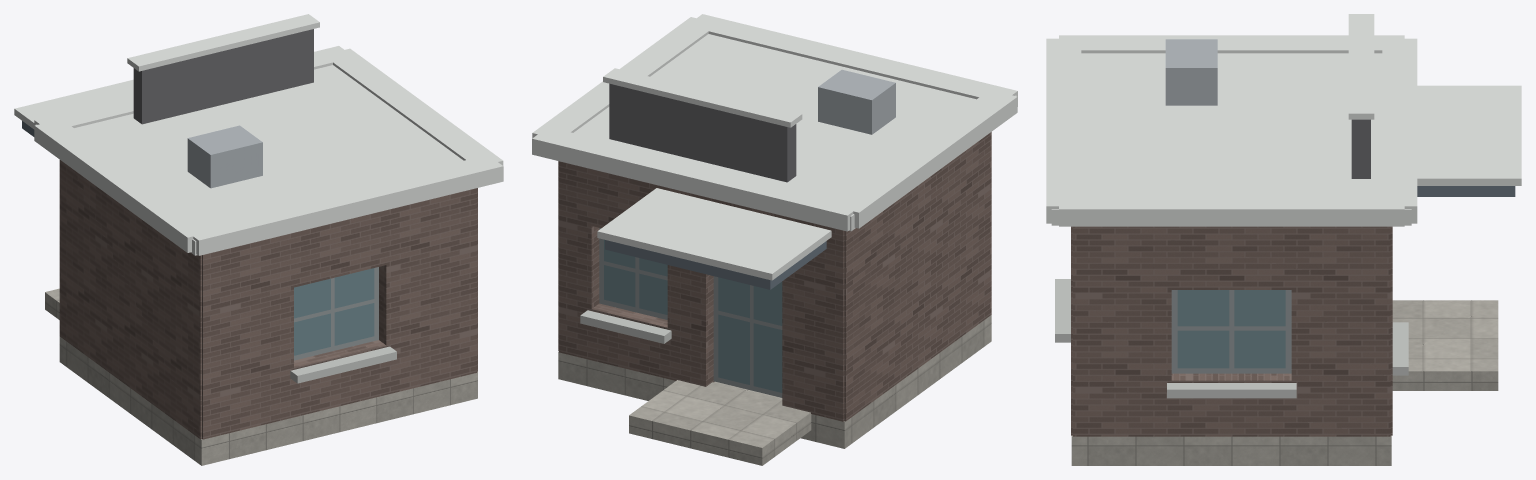
The picture shows the model from 3 angles, left to right: view 1: azimuth 30°, elevation 25°; view 2: azimuth 150°, elevation 25°; view 3: azimuth 270°, elevation 25°; orthographic projection. The views are drawn at different scales.
Visible parts, largest first — view 1: guard__guardbrick, guard__cap, guard__stone, guard__darkframe, guard__glass, guard__metalroof, guard__sill, guard__frame; view 2: guard__cap, guard__guardbrick, guard__darkframe, guard__threshold-front, guard__glass, guard__stone, guard__metalroof, guard__frame, guard__canopy, guard__sill; view 3: guard__cap, guard__guardbrick, guard__stone, guard__threshold-front, guard__glass, guard__sill, guard__metalroof, guard__frame, guard__darkframe, guard__canopy.
Part boxes in pixels (x1,y1,x2,y2): guard__guardbrick: [59, 160, 477, 439]; guard__cap: [14, 14, 503, 255]; guard__stone: [59, 336, 477, 465]; guard__darkframe: [133, 29, 313, 124]; guard__glass: [294, 268, 374, 355]; guard__metalroof: [187, 125, 262, 188]; guard__sill: [290, 346, 396, 383]; guard__frame: [294, 267, 378, 360]; guard__cap: [532, 14, 1017, 280]; guard__guardbrick: [558, 132, 991, 421]; guard__darkframe: [609, 83, 796, 182]; guard__threshold-front: [629, 380, 811, 465]; guard__glass: [604, 239, 782, 392]; guard__stone: [558, 315, 991, 448]; guard__metalroof: [818, 69, 895, 134]; guard__frame: [599, 228, 782, 397]; guard__canopy: [605, 240, 826, 289]; guard__sill: [580, 310, 671, 343]; guard__cap: [1046, 14, 1521, 226]; guard__guardbrick: [1071, 226, 1392, 436]; guard__stone: [1071, 435, 1391, 465]; guard__threshold-front: [1392, 300, 1498, 390]; guard__glass: [1177, 290, 1285, 368]; guard__sill: [1055, 279, 1408, 398]; guard__metalroof: [1165, 39, 1217, 105]; guard__frame: [1171, 290, 1291, 373]; guard__darkframe: [1351, 119, 1370, 178]; guard__canopy: [1417, 186, 1515, 196].
Size of the model in its own units: 5.14 by 4.59 by 5.94.
9 materials, 2 textured.
